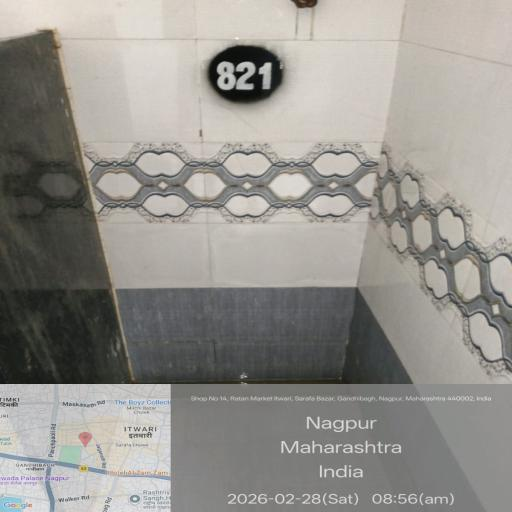clean_floor: (64, 78, 471, 304)
partial_dirty_floor: (136, 341, 512, 511)
